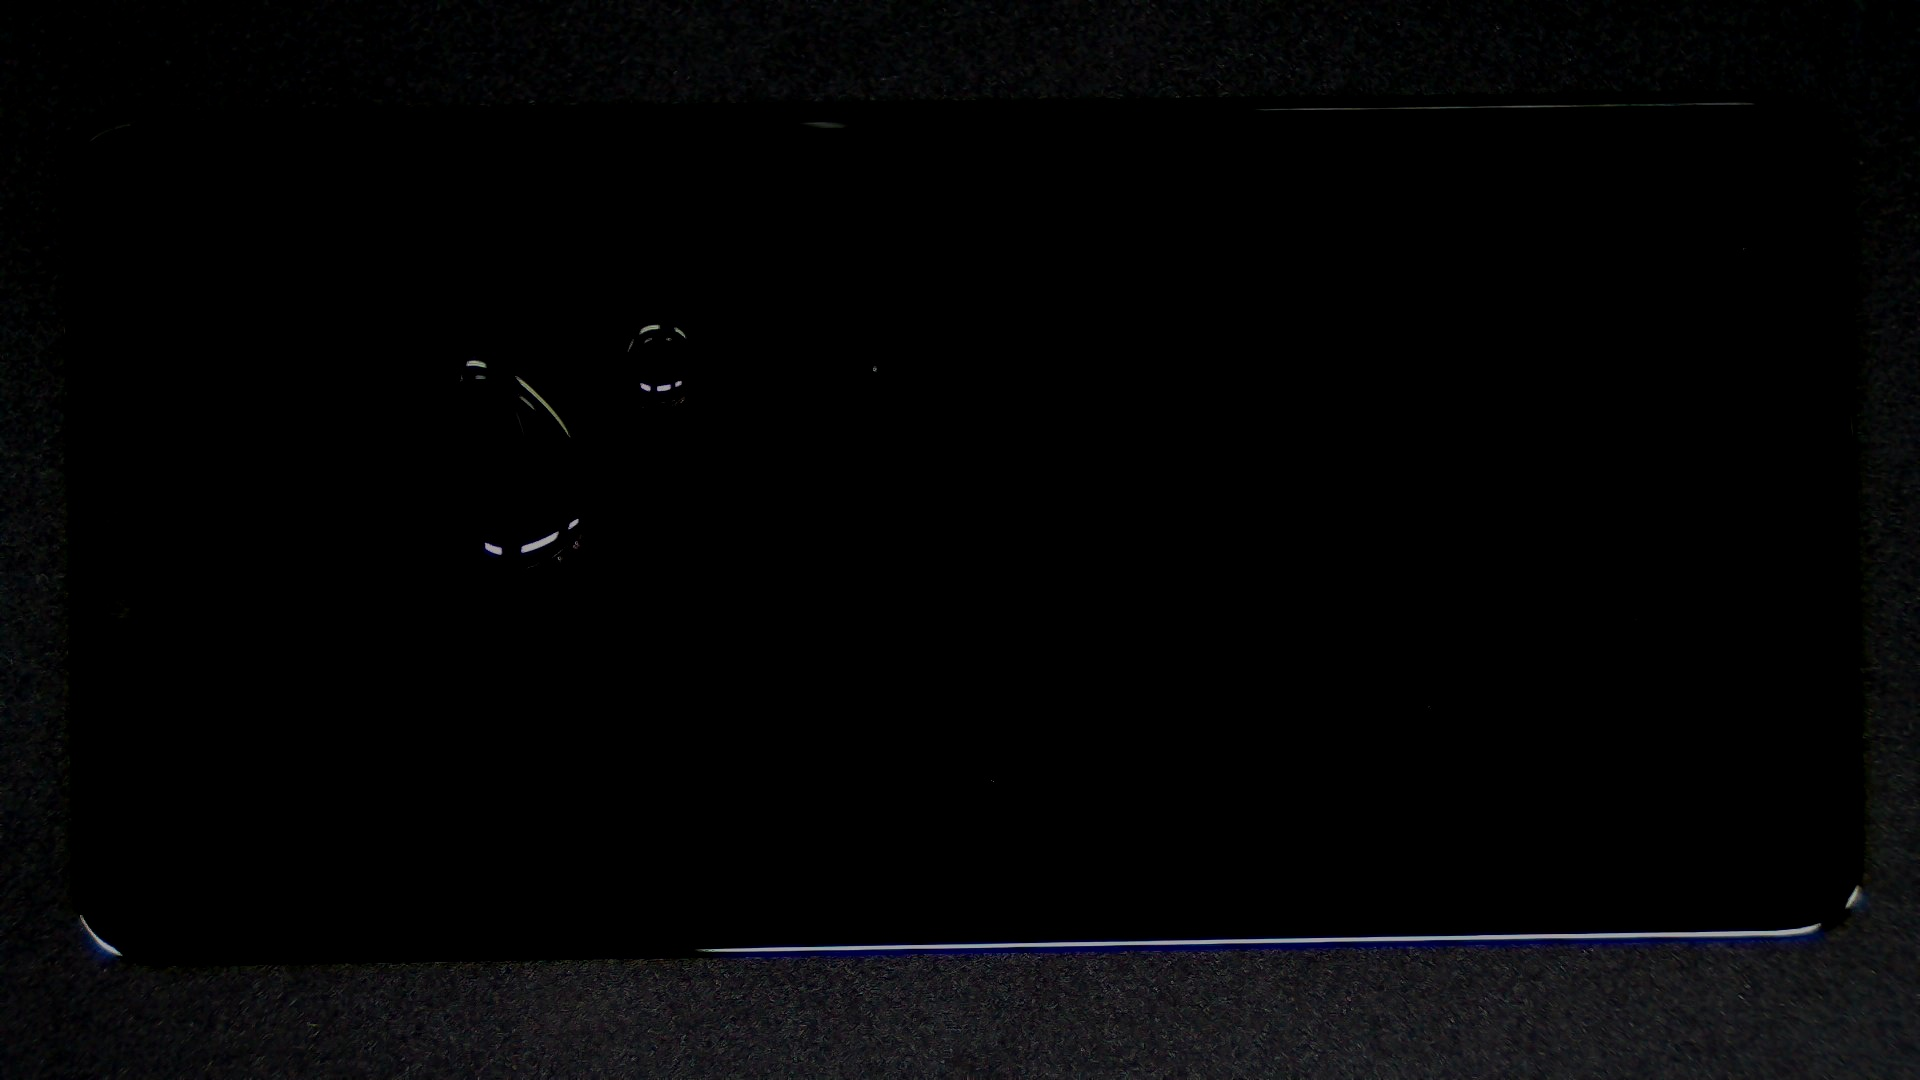oil: (332, 157, 994, 473), (237, 177, 712, 531)
